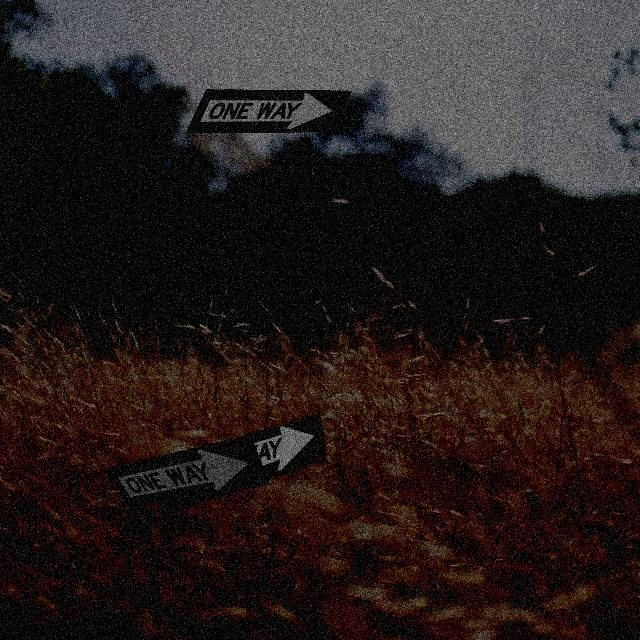ONE_WAY_ right: (160, 412, 327, 517), (103, 434, 270, 508), (185, 89, 352, 133)
